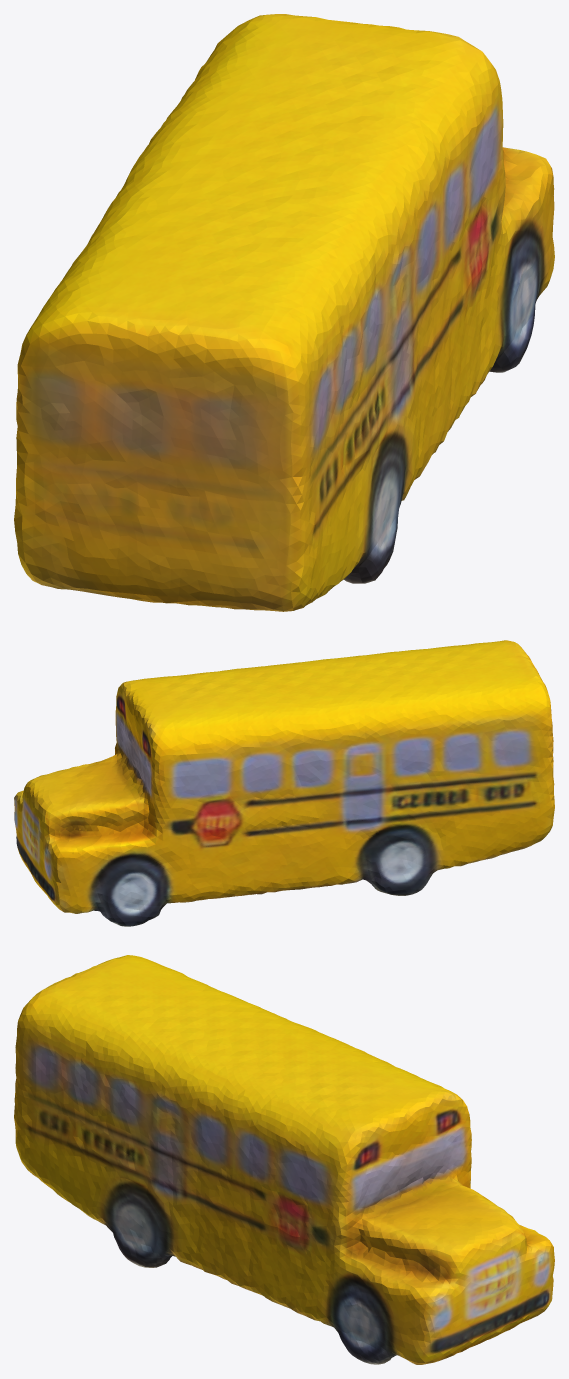
The picture shows the model from 3 angles, top to bottom: view 1: azimuth 30°, elevation 25°; view 2: azimuth 150°, elevation 25°; view 3: azimuth 270°, elevation 25°; orthographic projection. The views are drawn at different scales.
Visible parts, largest first — view 1: world; view 2: world; view 3: world.
Part boxes in pixels (x1=…): world: x1=14, y1=14, x2=554, y2=611; world: x1=14, y1=640, x2=554, y2=926; world: x1=14, y1=955, x2=554, y2=1364.
Size of the model in its own units: 0.9143 by 0.4054 by 0.9029.
1 material, 1 textured.
